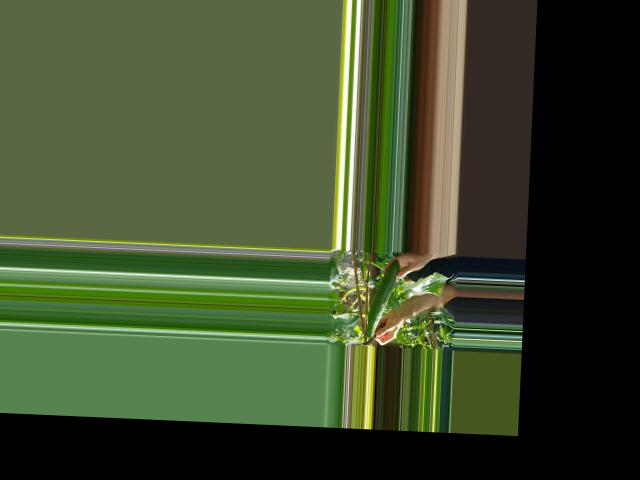cucumber: (366, 258, 400, 338)
